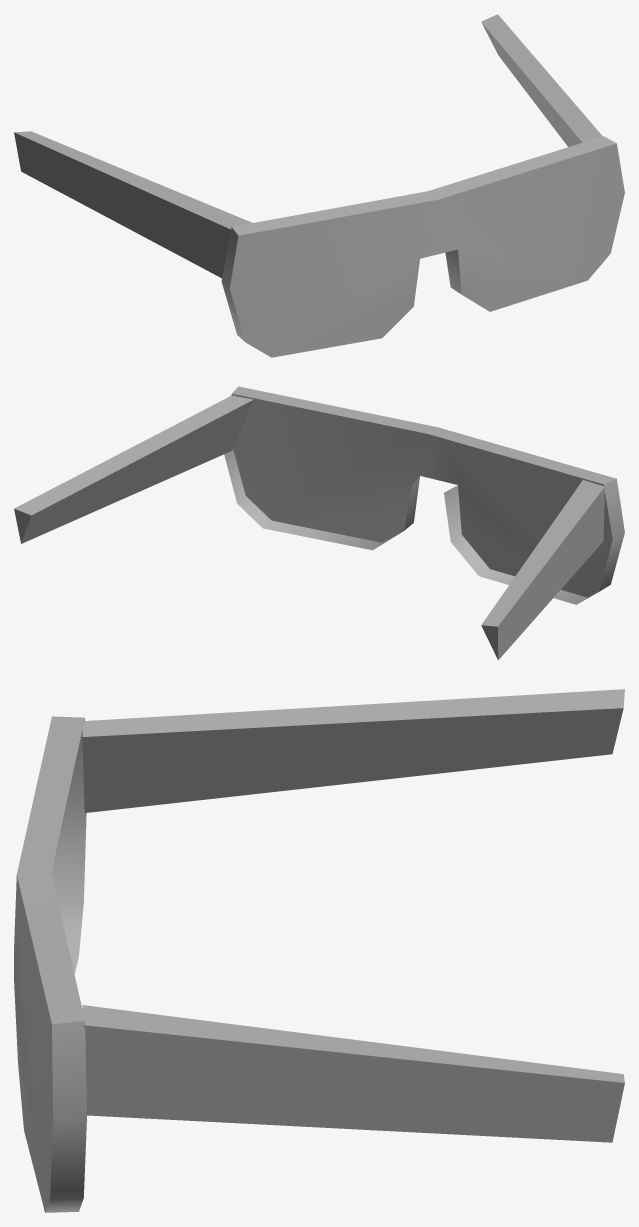
File: Male_Glasses_03_v2.fbx
3 views of the same model, one above another, from view 1: azimuth 30°, elevation 25°; view 2: azimuth 150°, elevation 25°; view 3: azimuth 270°, elevation 25° (orthographic). The views are drawn at different scales.
Visible parts, largest first — view 1: Male_Glasses_03_v2; view 2: Male_Glasses_03_v2; view 3: Male_Glasses_03_v2.
Boxes of the visible parts, box(x1,y1,x2,y2) form: Male_Glasses_03_v2: box(14, 14, 624, 357); Male_Glasses_03_v2: box(14, 386, 624, 660); Male_Glasses_03_v2: box(14, 689, 624, 1212).
Size of the model in its own units: 56.11 by 14.43 by 36.78.
